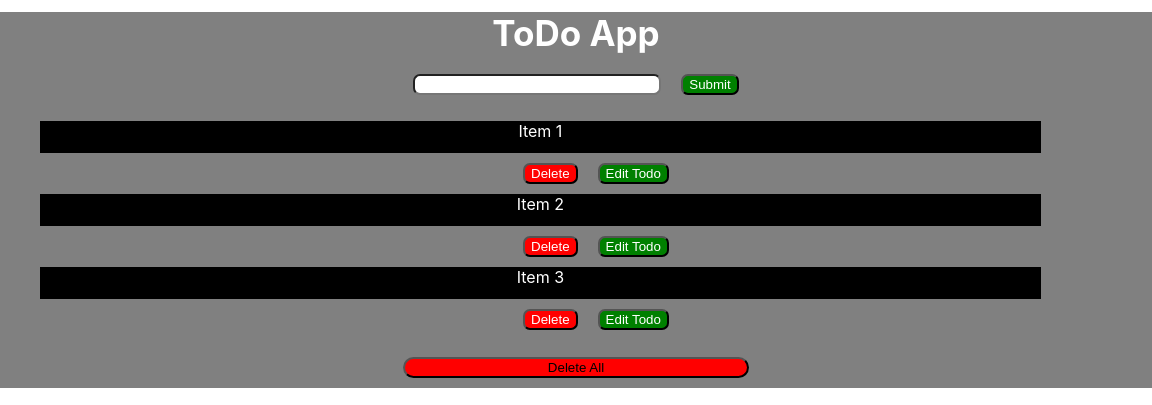
Test: App › deletes an item when clicking the "Delete" button
The width and height of the screenshot is (1152, 405).
Click the button "Delete" below "Item 2" at coordinates (550, 246), box x1=523 y1=236 x2=578 y2=257
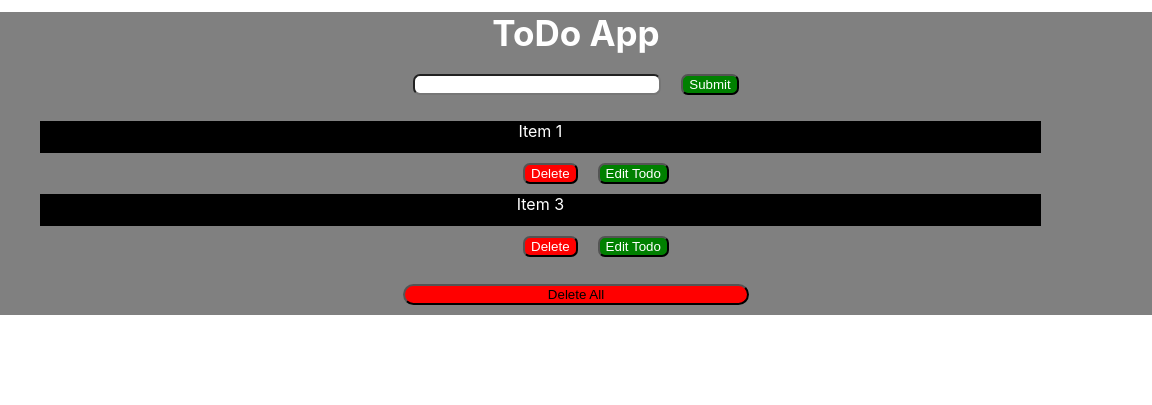
Expected: the text "Item 1" is shown 2 times, x1=40 y1=121 x2=1041 y2=153; x1=40 y1=194 x2=1041 y2=226
